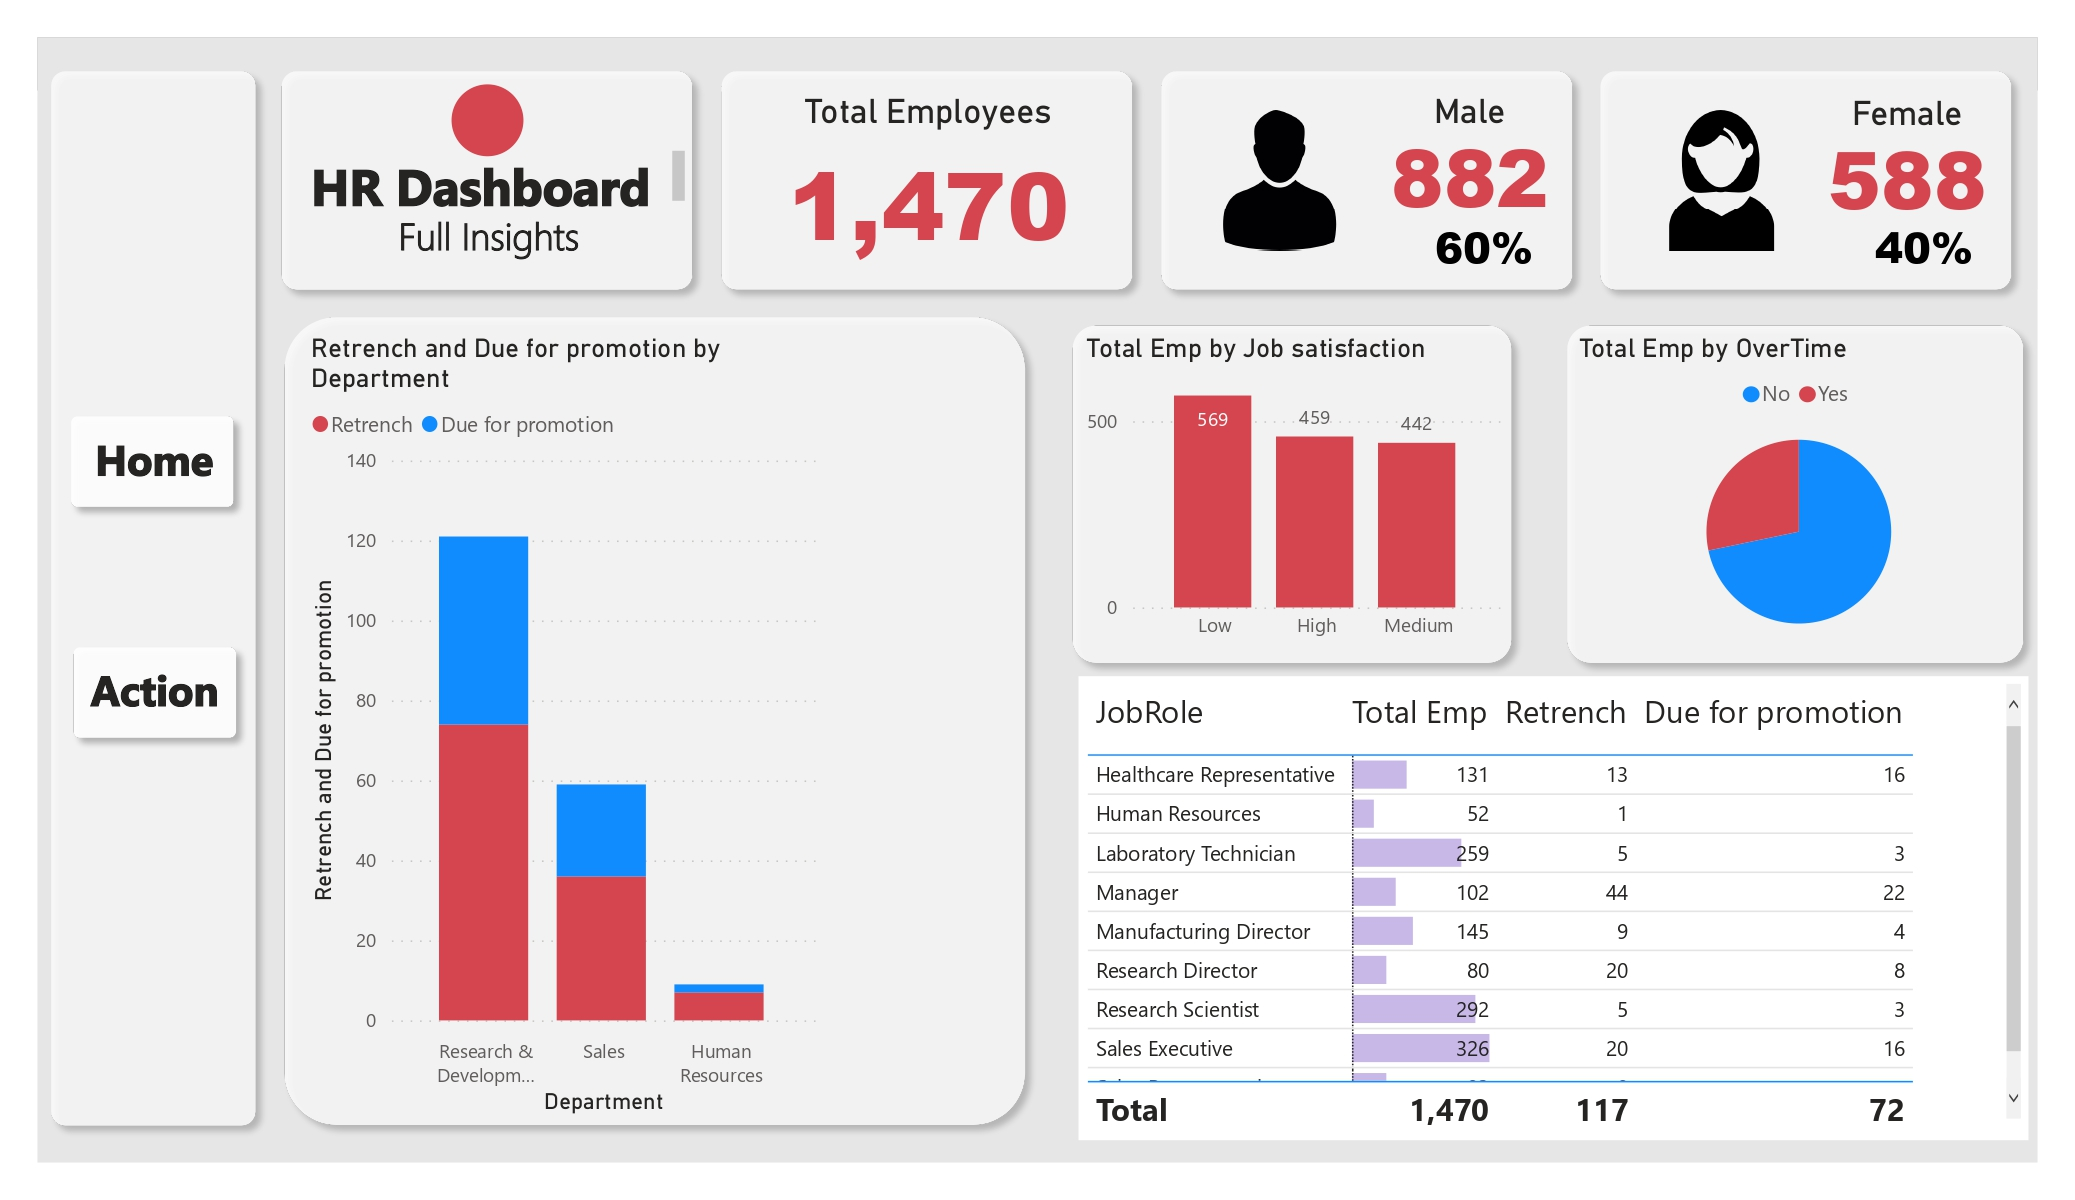

The page's visual inventory and layout, read from the dashboard file:
{"tool":"powerbi","page":{"name":"Home","canvas":[1280,720],"ordinal":0},"visuals":[{"type":"shape","box":[0,12.1,147.1,693.5],"z":0},{"type":"shape","box":[147.8,12.2,281.1,157.8],"z":1000},{"type":"shape","box":[428.8,12.5,281.2,157.5],"z":2000},{"type":"shape","box":[710,12.5,281.2,157.5],"z":3000},{"type":"shape","box":[991.2,12.5,281.2,157.5],"z":4000},{"type":"shape","box":[147.5,183.8,402.5,522.5],"z":5000},{"type":"shape","box":[557.5,183.8,348.8,290],"z":6000},{"type":"shape","box":[557.8,464.4,348.9,242.2],"z":7000},{"type":"shape","box":[906.2,183.8,235,157.5],"z":8000},{"type":"shape","box":[1141.2,183.8,131.2,157.5],"z":9000},{"type":"shape","box":[906.2,341.2,366.2,365],"z":10000},{"type":"textbox","box":[156.7,67.8,262.8,47.2],"z":11000},{"type":"textbox","box":[157.3,105.5,262.7,46.4],"z":12000},{"type":"shape","box":[264.5,30,46.4,46.4],"z":13000},{"type":"card","title":"Total Employees","fields":{"Values":["All Measures.Total Emp"]},"box":[438.1,35,262.5,112.5],"z":14000},{"type":"card","title":"Male","fields":{"Values":["All Measures.Male"]},"box":[851,35,131,80],"z":15000},{"type":"card","title":"Male","fields":{"Values":["All Measures.% male"]},"box":[860,95,131,80],"z":16000},{"type":"card","title":"Male","fields":{"Values":["All Measures.% female"]},"box":[1141.5,95.4,131.5,80],"z":17000},{"type":"card","title":"Female","fields":{"Values":["All Measures.Female"]},"box":[1131.5,36.2,130.8,80],"z":18000},{"type":"image","box":[740,41.4,110,100],"z":19000},{"type":"image","box":[1024,41,108,100],"z":20000},{"type":"card","title":"Due for promotion","fields":{"Values":["All Measures.Due for promotion"]},"box":[158.6,243.6,383,132],"z":21000},{"type":"card","title":"Male","fields":{"Values":["All Measures.% Due for promotion"]},"box":[283.8,341.2,130,80],"z":22000},{"type":"card","title":"Not due for promotion","fields":{"Values":["All Measures.Not due"]},"box":[155.6,464.6,383,132],"z":23000},{"type":"card","title":"Male","fields":{"Values":["All Measures.% Not due"]},"box":[283.8,568,130,80],"z":24000},{"type":"shape","box":[157.5,393.8,386.2,55],"z":25000},{"type":"barChart","title":" Service year","fields":{"Category":["HR Analytics Data.Service year"],"Y":["All Measures.Total Emp"]},"box":[570,202.7,323.6,261.8],"z":26000},{"type":"columnChart","title":"Job levels","fields":{"Category":["HR Analytics Data.Job levels"],"Y":["All Measures.Total Emp"]},"box":[568.9,481.1,325.6,224.4],"z":27000},{"type":"card","title":"On services","fields":{"Values":["All Measures.On service"]},"box":[916.6,202.6,214.7,80.8],"z":28000},{"type":"card","title":"Male","fields":{"Values":["All Measures.% On service"]},"box":[969.6,262.9,132.7,79.6],"z":29000},{"type":"card","title":"Male","fields":{"Values":["All Measures.% Retrench"]},"box":[1148.1,262.9,131.5,79.6],"z":30000},{"type":"card","title":"Retrench","fields":{"Values":["All Measures.Retrench"]},"box":[1140.9,202.6,131.5,80.8],"z":31000},{"type":"donutChart","title":"Distance status","fields":{"Category":["HR Analytics Data.Distance status"],"Y":["All Measures.Total Emp"]},"box":[917.8,359.4,343.7,346.1],"z":32000},{"type":"shape","box":[13.3,381.1,121.8,76],"z":32500},{"type":"textbox","box":[13.3,394.2,122.5,57.5],"z":33000},{"type":"shape","box":[12.1,234,121.8,76],"z":33500},{"type":"textbox","box":[13.8,245.6,121.9,52.5],"z":34000},{"type":"actionButton","box":[25,398.8,100,40],"z":34001}]}

Visuals, with their boxes in screenshot pixels (x1, y1, x2, y2):
shape: bbox=[38, 56, 267, 1140]
shape: bbox=[268, 57, 708, 303]
shape: bbox=[708, 57, 1147, 303]
shape: bbox=[1147, 57, 1586, 303]
shape: bbox=[1586, 57, 2026, 303]
shape: bbox=[268, 325, 897, 1141]
shape: bbox=[909, 325, 1454, 778]
shape: bbox=[909, 763, 1454, 1142]
shape: bbox=[1453, 325, 1821, 571]
shape: bbox=[1821, 325, 2026, 571]
shape: bbox=[1453, 571, 2026, 1141]
textbox: bbox=[282, 143, 693, 217]
textbox: bbox=[283, 202, 694, 275]
shape: bbox=[451, 84, 523, 157]
"Total Employees" card: bbox=[722, 92, 1132, 268]
"Male" card: bbox=[1367, 92, 1572, 217]
"Male" card: bbox=[1381, 186, 1586, 311]
"Male" card: bbox=[1821, 187, 2027, 312]
"Female" card: bbox=[1805, 94, 2010, 219]
image: bbox=[1194, 102, 1366, 258]
image: bbox=[1638, 102, 1806, 258]
"Due for promotion" card: bbox=[285, 418, 884, 624]
"Male" card: bbox=[481, 571, 684, 696]
"Not due for promotion" card: bbox=[281, 763, 879, 970]
"Male" card: bbox=[481, 925, 684, 1050]
shape: bbox=[284, 653, 887, 739]
" Service year" barChart: bbox=[928, 354, 1434, 763]
"Job levels" columnChart: bbox=[926, 789, 1435, 1140]
"On services" card: bbox=[1470, 354, 1805, 480]
"Male" card: bbox=[1552, 448, 1760, 573]
"Male" card: bbox=[1831, 448, 2037, 573]
"Retrench" card: bbox=[1820, 354, 2026, 480]
"Distance status" donutChart: bbox=[1472, 599, 2009, 1140]
shape: bbox=[58, 633, 249, 752]
textbox: bbox=[58, 653, 250, 743]
shape: bbox=[56, 403, 247, 522]
textbox: bbox=[59, 421, 250, 503]
actionButton: bbox=[77, 661, 233, 723]
